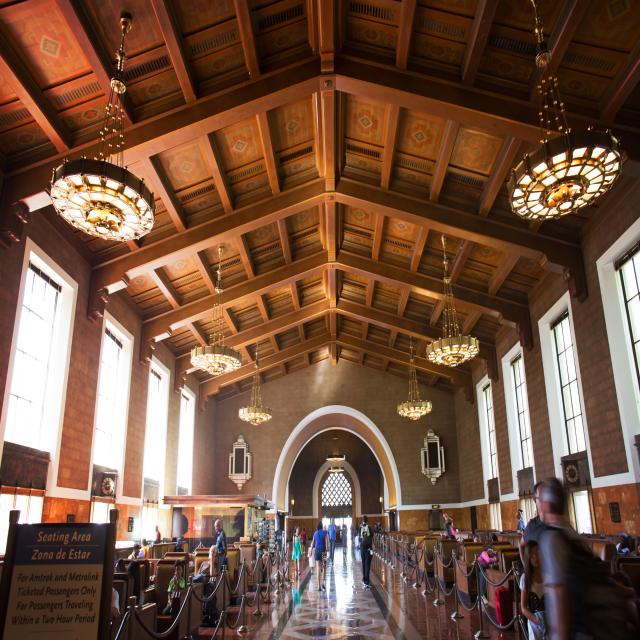body: (538, 477, 596, 639), (98, 557, 145, 640), (520, 539, 552, 640), (518, 480, 548, 570), (188, 544, 220, 624), (309, 520, 329, 592), (472, 548, 497, 605), (357, 514, 376, 588), (162, 559, 185, 615), (437, 530, 499, 547), (214, 519, 228, 574), (292, 525, 303, 575), (174, 538, 193, 566), (327, 516, 338, 564), (349, 521, 364, 548), (616, 532, 630, 556), (307, 541, 316, 575), (442, 512, 453, 539), (136, 538, 150, 559), (299, 526, 309, 554), (516, 511, 524, 546), (256, 539, 269, 559), (127, 543, 142, 559), (517, 508, 526, 532), (632, 537, 640, 564), (323, 524, 330, 554), (340, 525, 347, 554), (449, 521, 458, 539), (374, 519, 383, 536), (152, 525, 160, 544)
